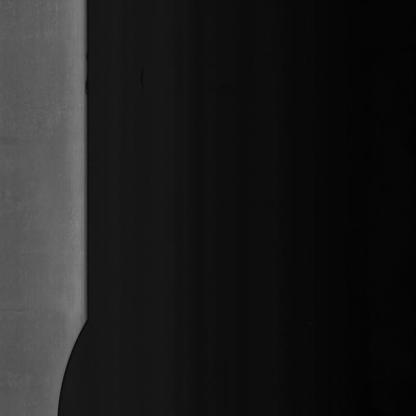crescent_gap: (45, 302, 97, 416)
